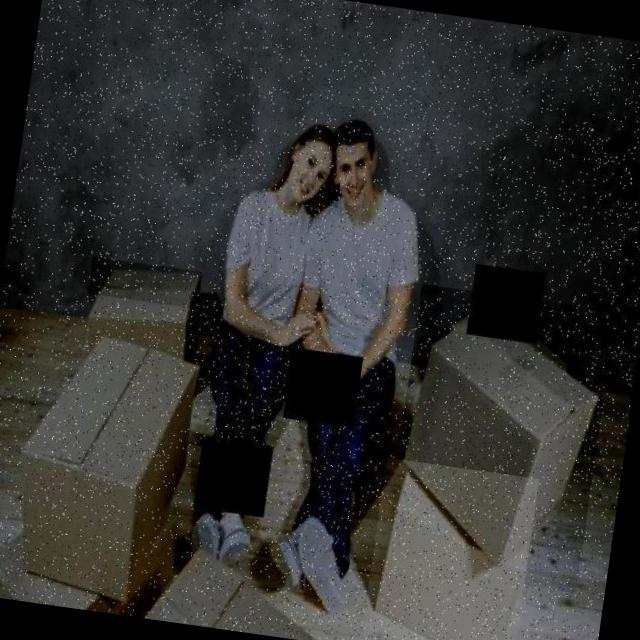box: (382, 284, 616, 594), (0, 286, 221, 600), (360, 457, 539, 640), (81, 257, 202, 358)
